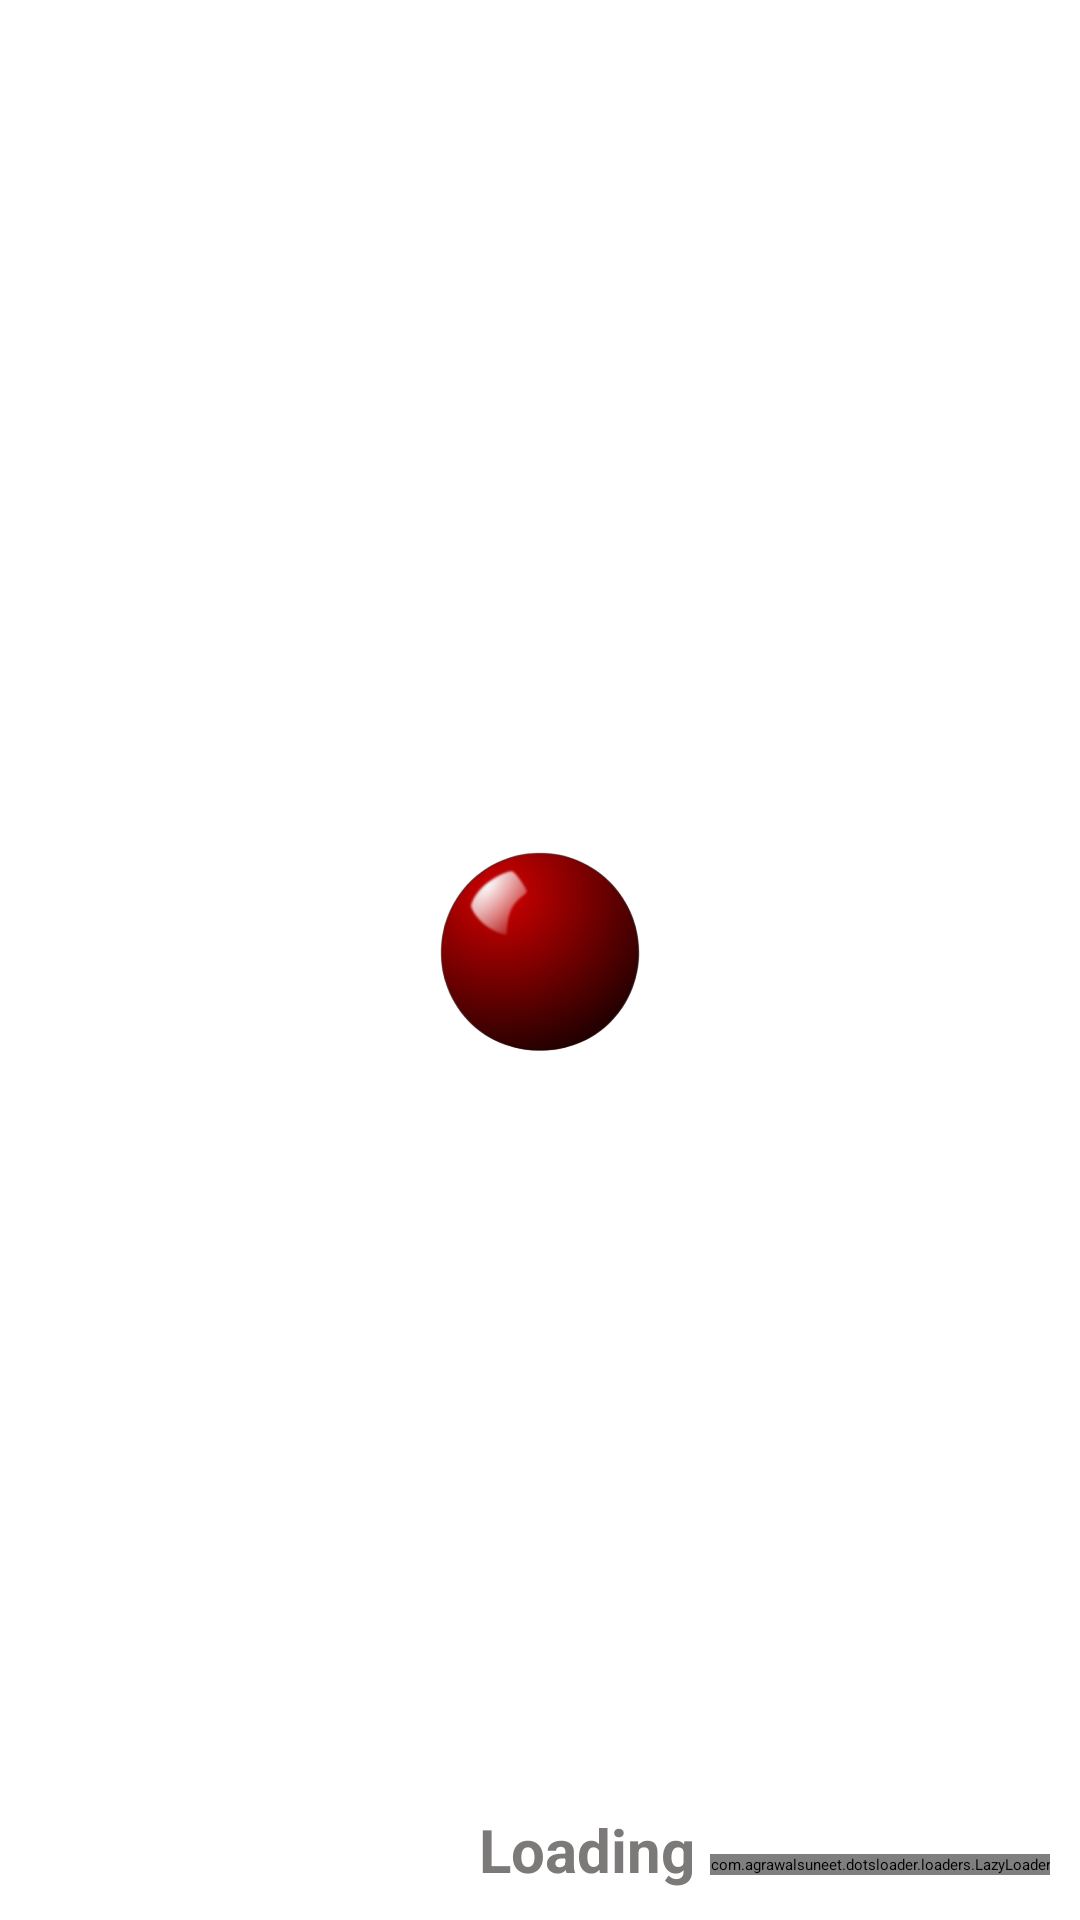

Point at icon controls on the screen. Image size 1080x1920, points as (x=x, y=y).
snooker: (x=540, y=952)
